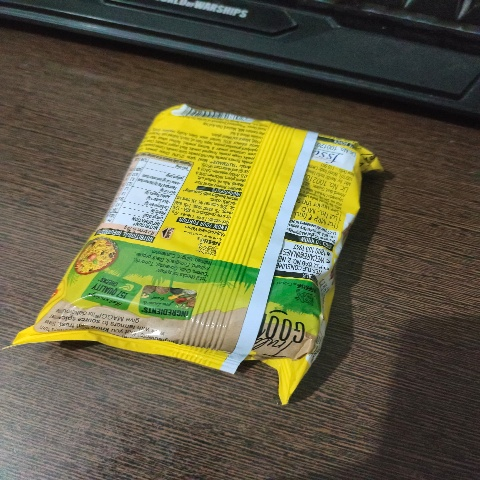maggi: (11, 85, 390, 412)
